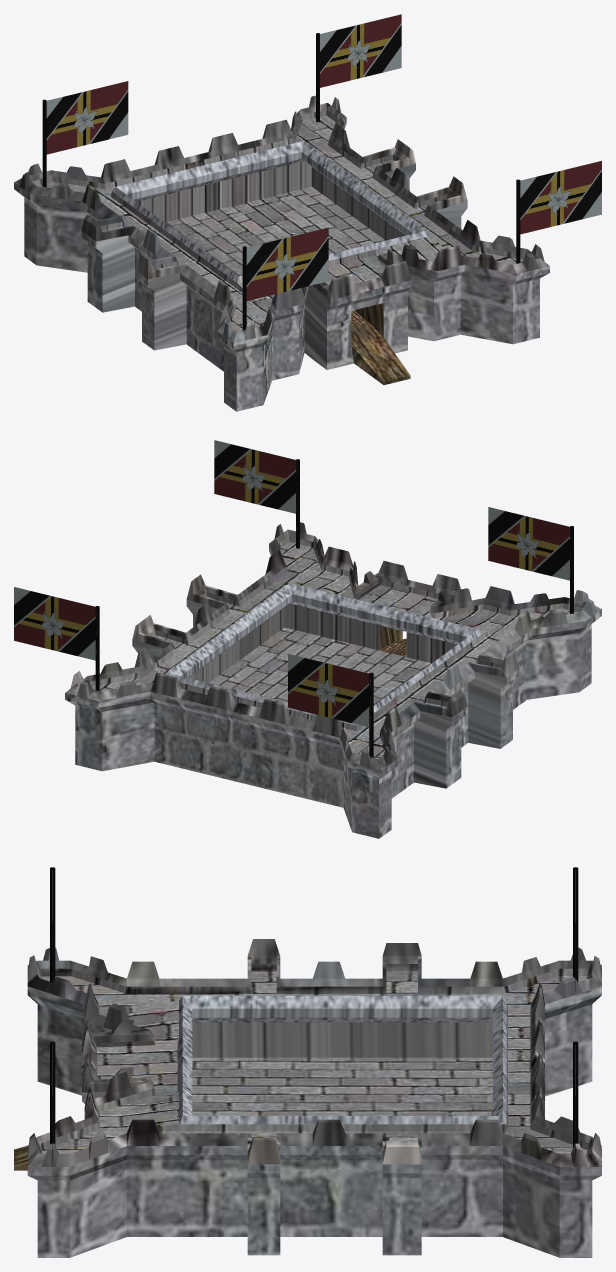
Rendered from RedTeamCastle.FBX.
The picture shows the model from 3 angles, top to bottom: view 1: azimuth 30°, elevation 25°; view 2: azimuth 150°, elevation 25°; view 3: azimuth 270°, elevation 25°; orthographic projection. The views are drawn at different scales.
Parts seen in each view (by area): view 1: Box001, Box003, Box004, Box002, Box005; view 2: Box001, Box004, Box002, Box005, Box003; view 3: Box001, Cylinder003, Cylinder002, Cylinder001, Cylinder004.
Boxes of the visible parts, x1,y1,x2,y2 form: Box001: (14,95,549,411); Box003: (46,81,128,154); Box004: (246,227,328,300); Box002: (320,14,401,87); Box005: (520,161,601,234); Box001: (65,522,601,838); Box004: (488,507,569,580); Box002: (14,587,95,660); Box005: (214,440,295,513); Box003: (288,653,369,727); Box001: (14,939,601,1257); Cylinder003: (50,867,55,981); Cylinder002: (573,867,578,981); Cylinder001: (573,1041,578,1147); Cylinder004: (50,1041,55,1144).
Bounding box in the file's own units: 15.64 × 6.21 × 16.07.
3 materials, 3 textured.
